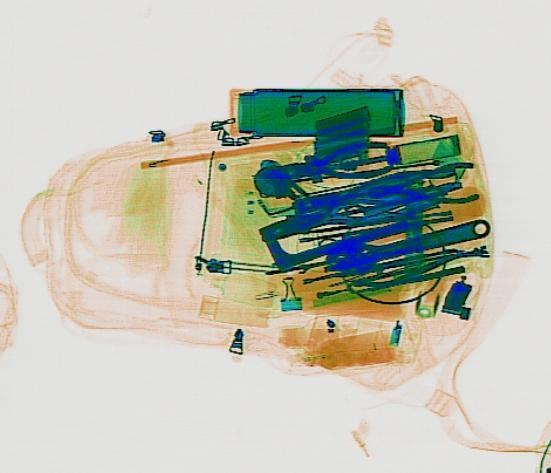Pliers: (255, 136, 395, 194), (362, 158, 479, 214)
Wrench: (314, 210, 495, 279)
